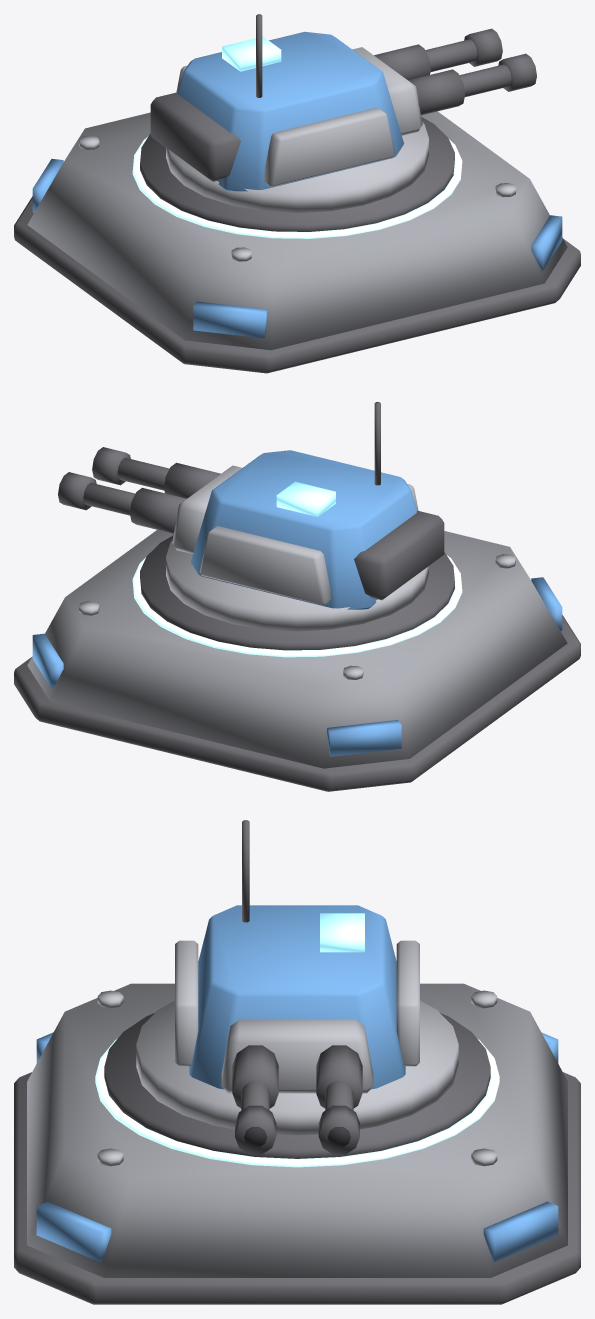
File: turret.glb
3 renders of one model, top to bottom at view 1: azimuth 30°, elevation 25°; view 2: azimuth 150°, elevation 25°; view 3: azimuth 270°, elevation 25°, orthographic. The views are drawn at different scales.
Parts seen in each view (by area): view 1: body, turret; view 2: body, turret; view 3: body, turret.
Part boxes in pixels (box(x1,y1,x2,y2)): body: box(14, 111, 580, 373); turret: box(150, 14, 536, 212); body: box(14, 530, 580, 791); turret: box(58, 402, 444, 631); body: box(14, 983, 580, 1304); turret: box(136, 820, 458, 1154).
Bounding box in the file's own units: 0.912 × 0.565 × 0.88.
